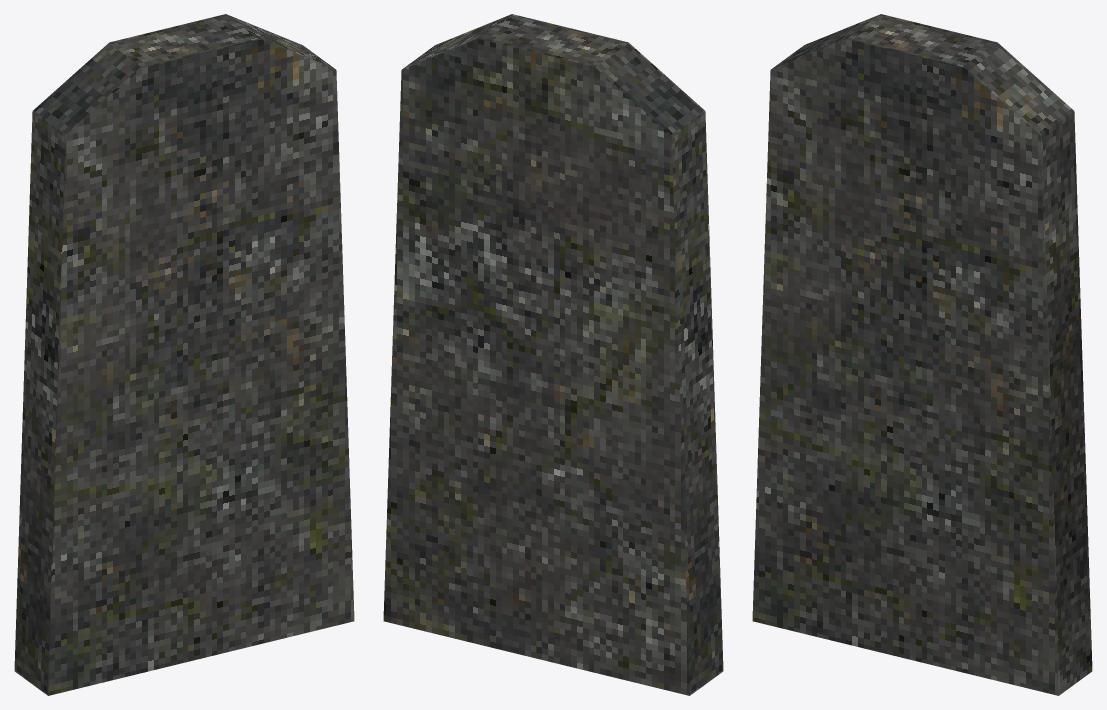
Rendered from Gravestone_1.gltf.
3 renders of one model, left to right at view 1: azimuth 30°, elevation 25°; view 2: azimuth 150°, elevation 25°; view 3: azimuth 330°, elevation 25°, orthographic.
Parts seen in each view (by area): view 1: Gravestone_1; view 2: Gravestone_1; view 3: Gravestone_1.
Part boxes in pixels (bbox=[...]): Gravestone_1: bbox=[14, 14, 354, 695]; Gravestone_1: bbox=[383, 14, 723, 695]; Gravestone_1: bbox=[752, 14, 1092, 695].
Bounding box in the file's own units: 2.18 × 4.11 × 0.4152.
Materials: 1 (1 with a texture image).
